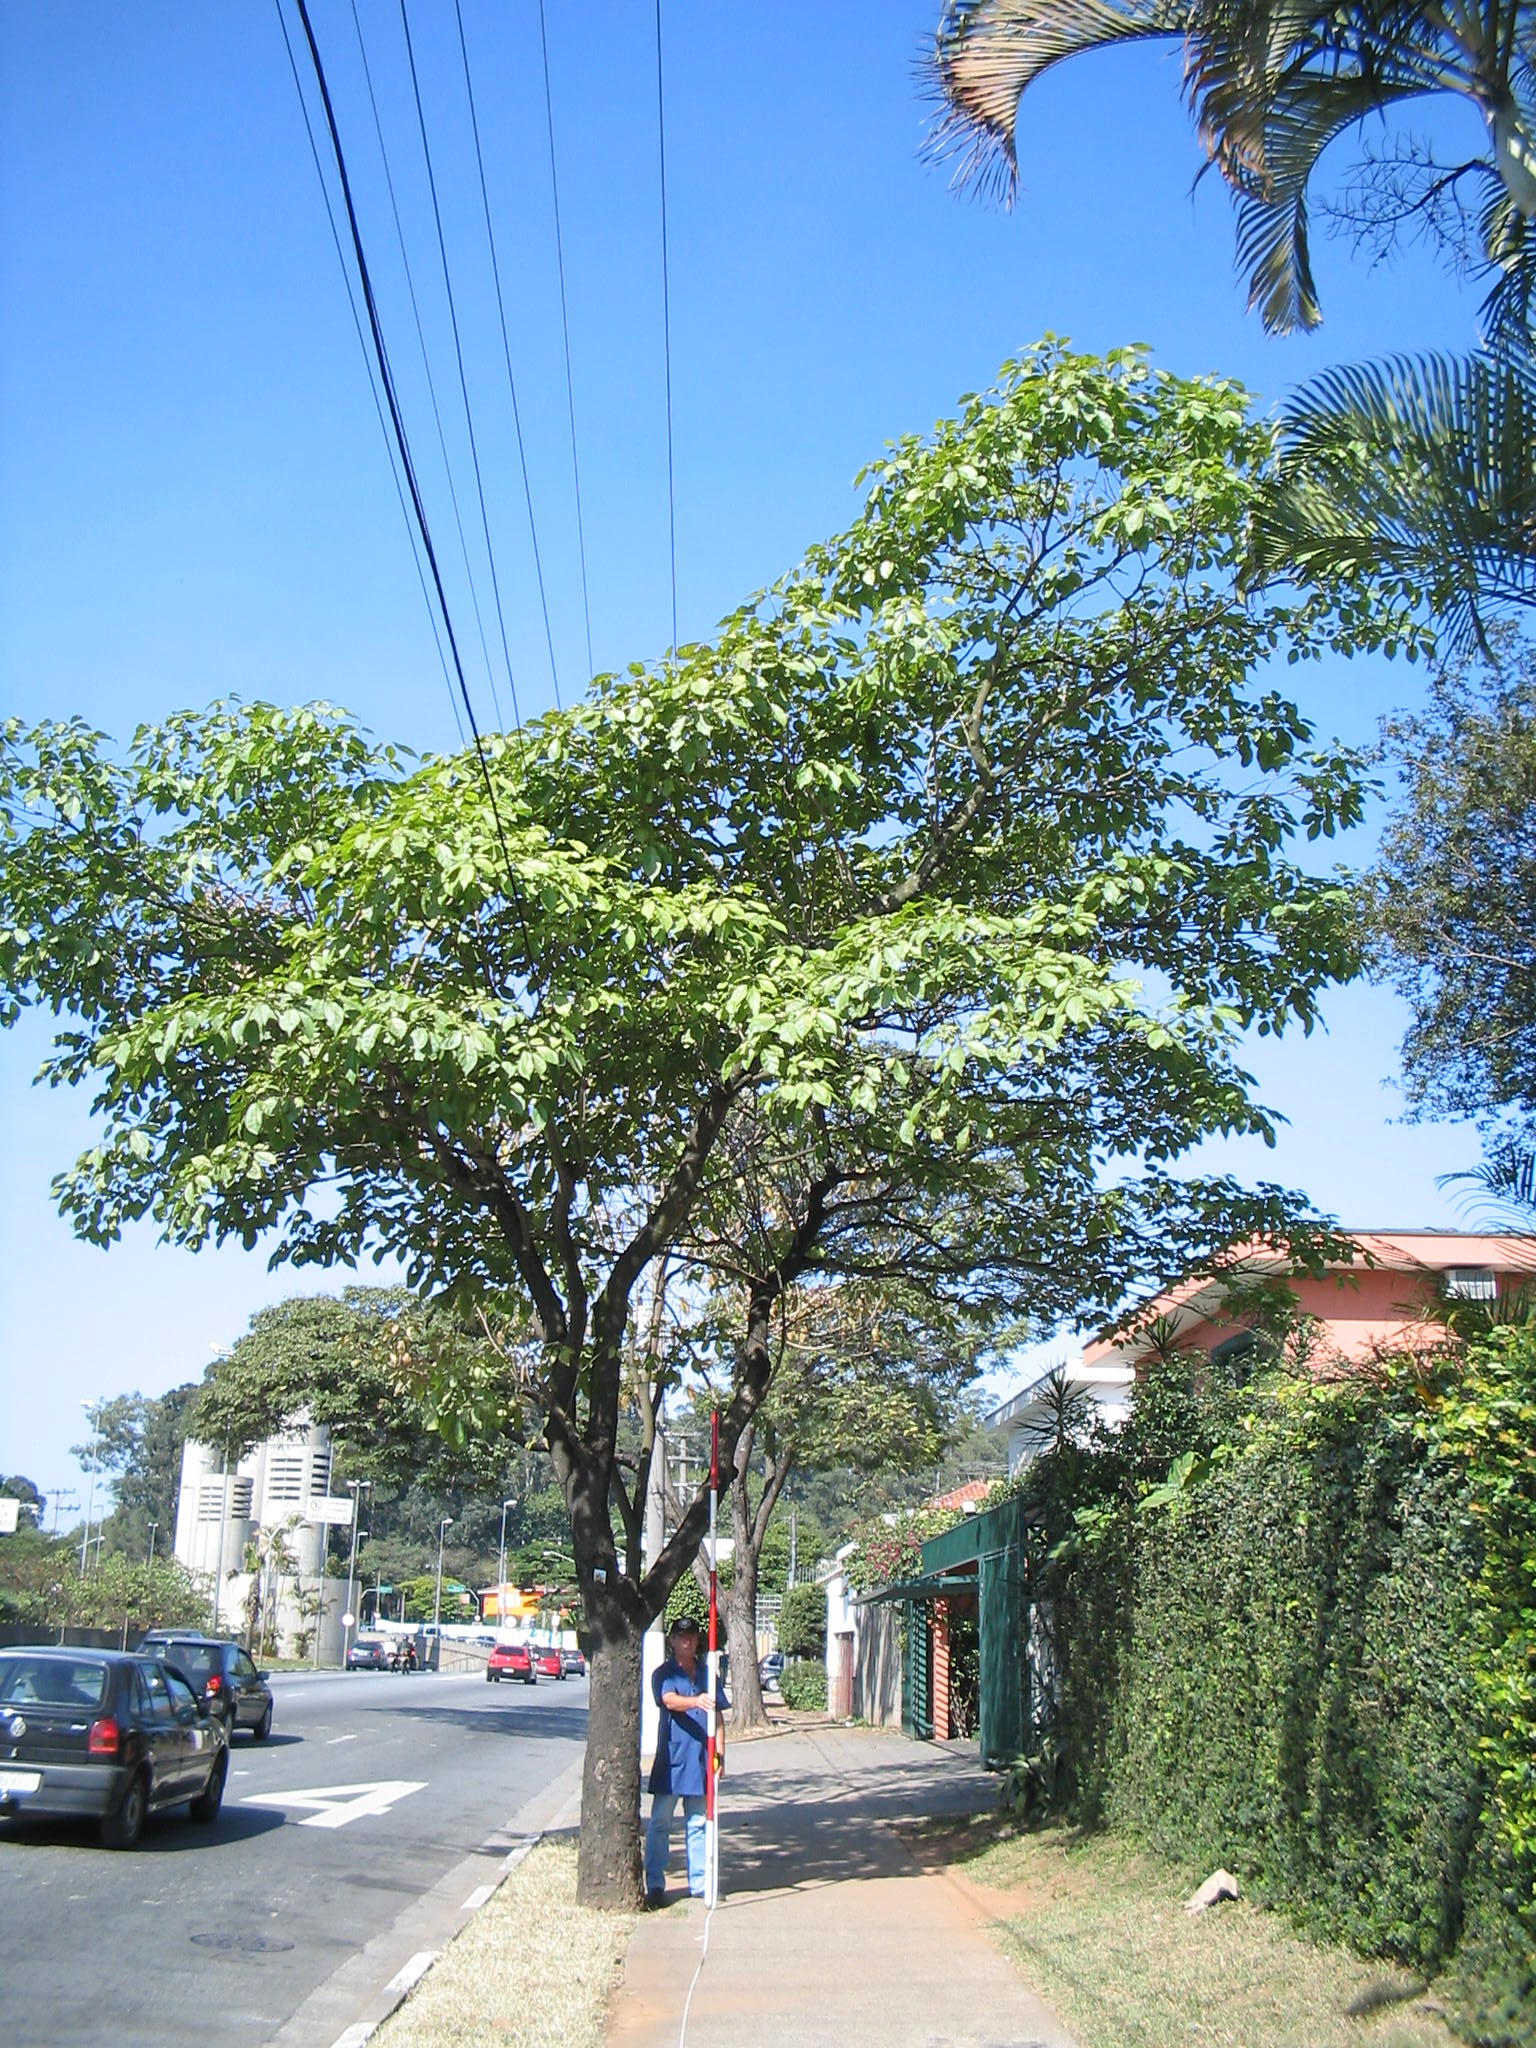crown: (11, 337, 1433, 1466)
stem: (553, 1587, 670, 1913)
stick: (687, 1411, 736, 1913)
tree: (6, 329, 1428, 1916)
